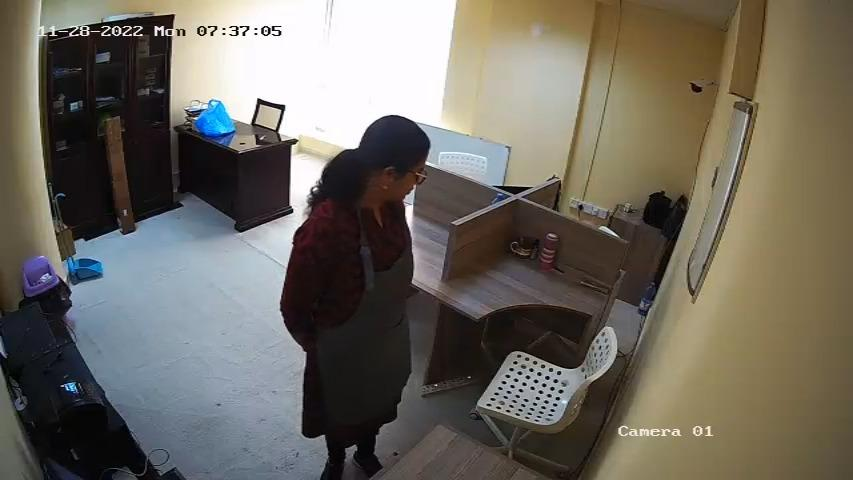apron: (316, 209, 415, 392)
